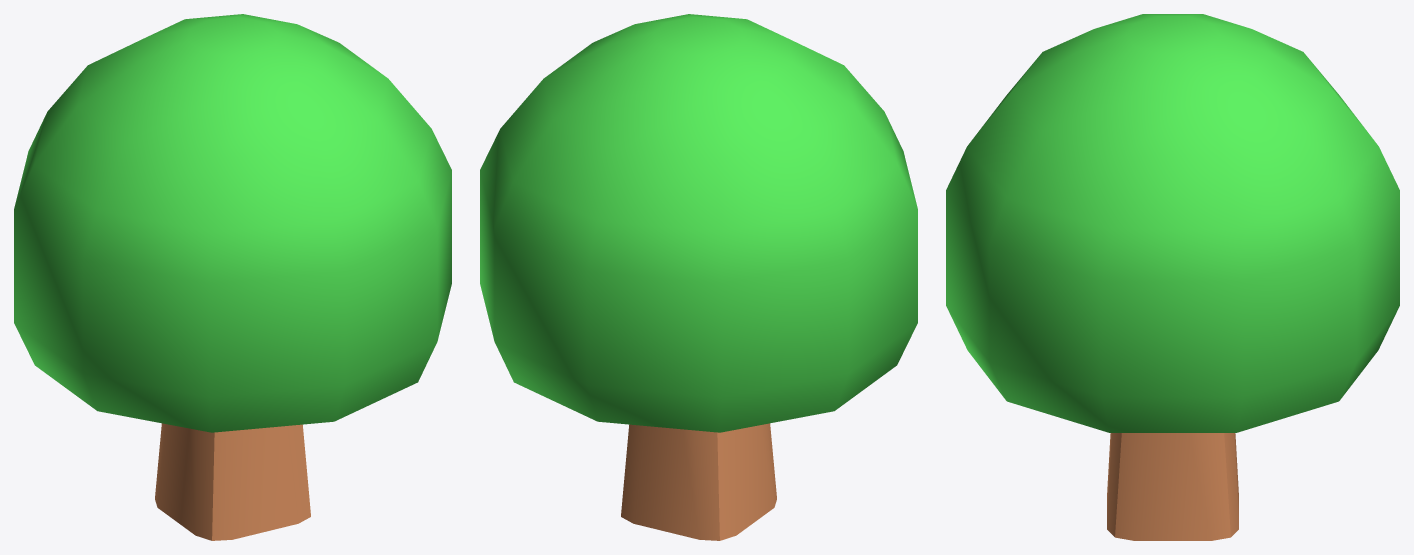
Rendered from Tree_A.fbx.
3 renders of one model, left to right at view 1: azimuth 30°, elevation 25°; view 2: azimuth 150°, elevation 25°; view 3: azimuth 270°, elevation 25°, orthographic.
Visible parts, largest first — view 1: Tree_A; view 2: Tree_A; view 3: Tree_A.
Boxes of the visible parts, <box> form: Tree_A: <box>14,14,451,540</box>; Tree_A: <box>480,14,917,540</box>; Tree_A: <box>946,14,1399,540</box>.
Size of the model in its own units: 281 by 343 by 295.
